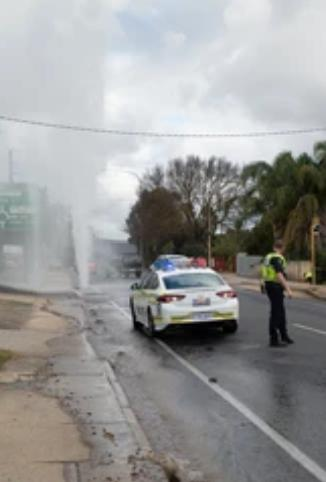pipe burst: (0, 0, 113, 293)
water accumulation: (39, 295, 325, 481)
